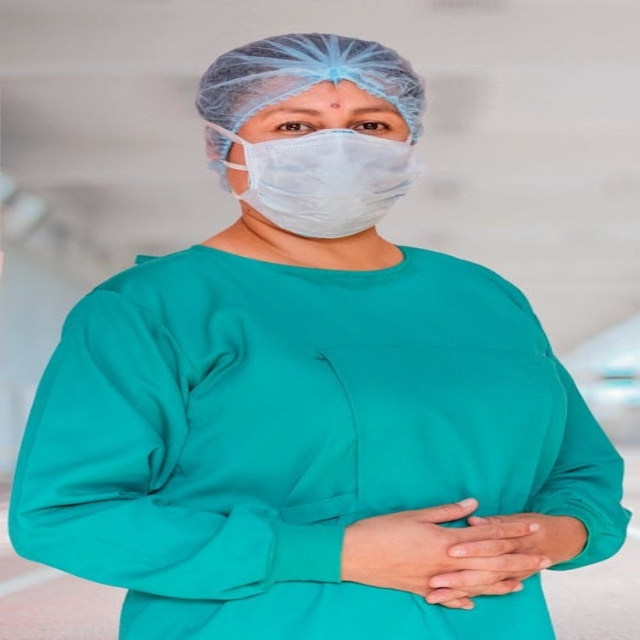Mascara: (218, 124, 421, 238)
Sin_gafas: (266, 106, 393, 136)
Sin_guantes: (347, 497, 552, 609)
